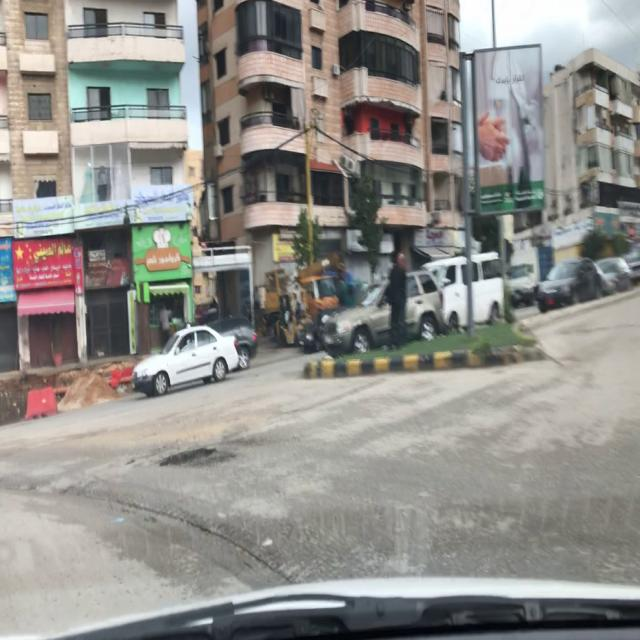Pothole: (155, 444, 216, 472)
